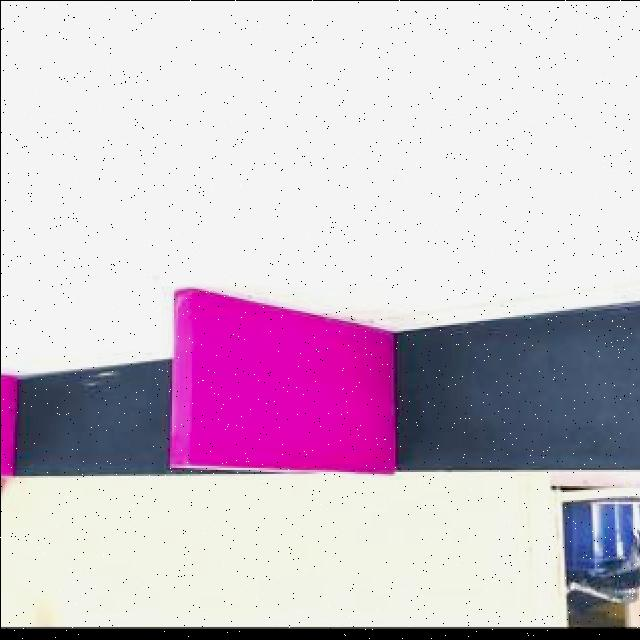xparking: (172, 309, 396, 466), (3, 374, 13, 472)
